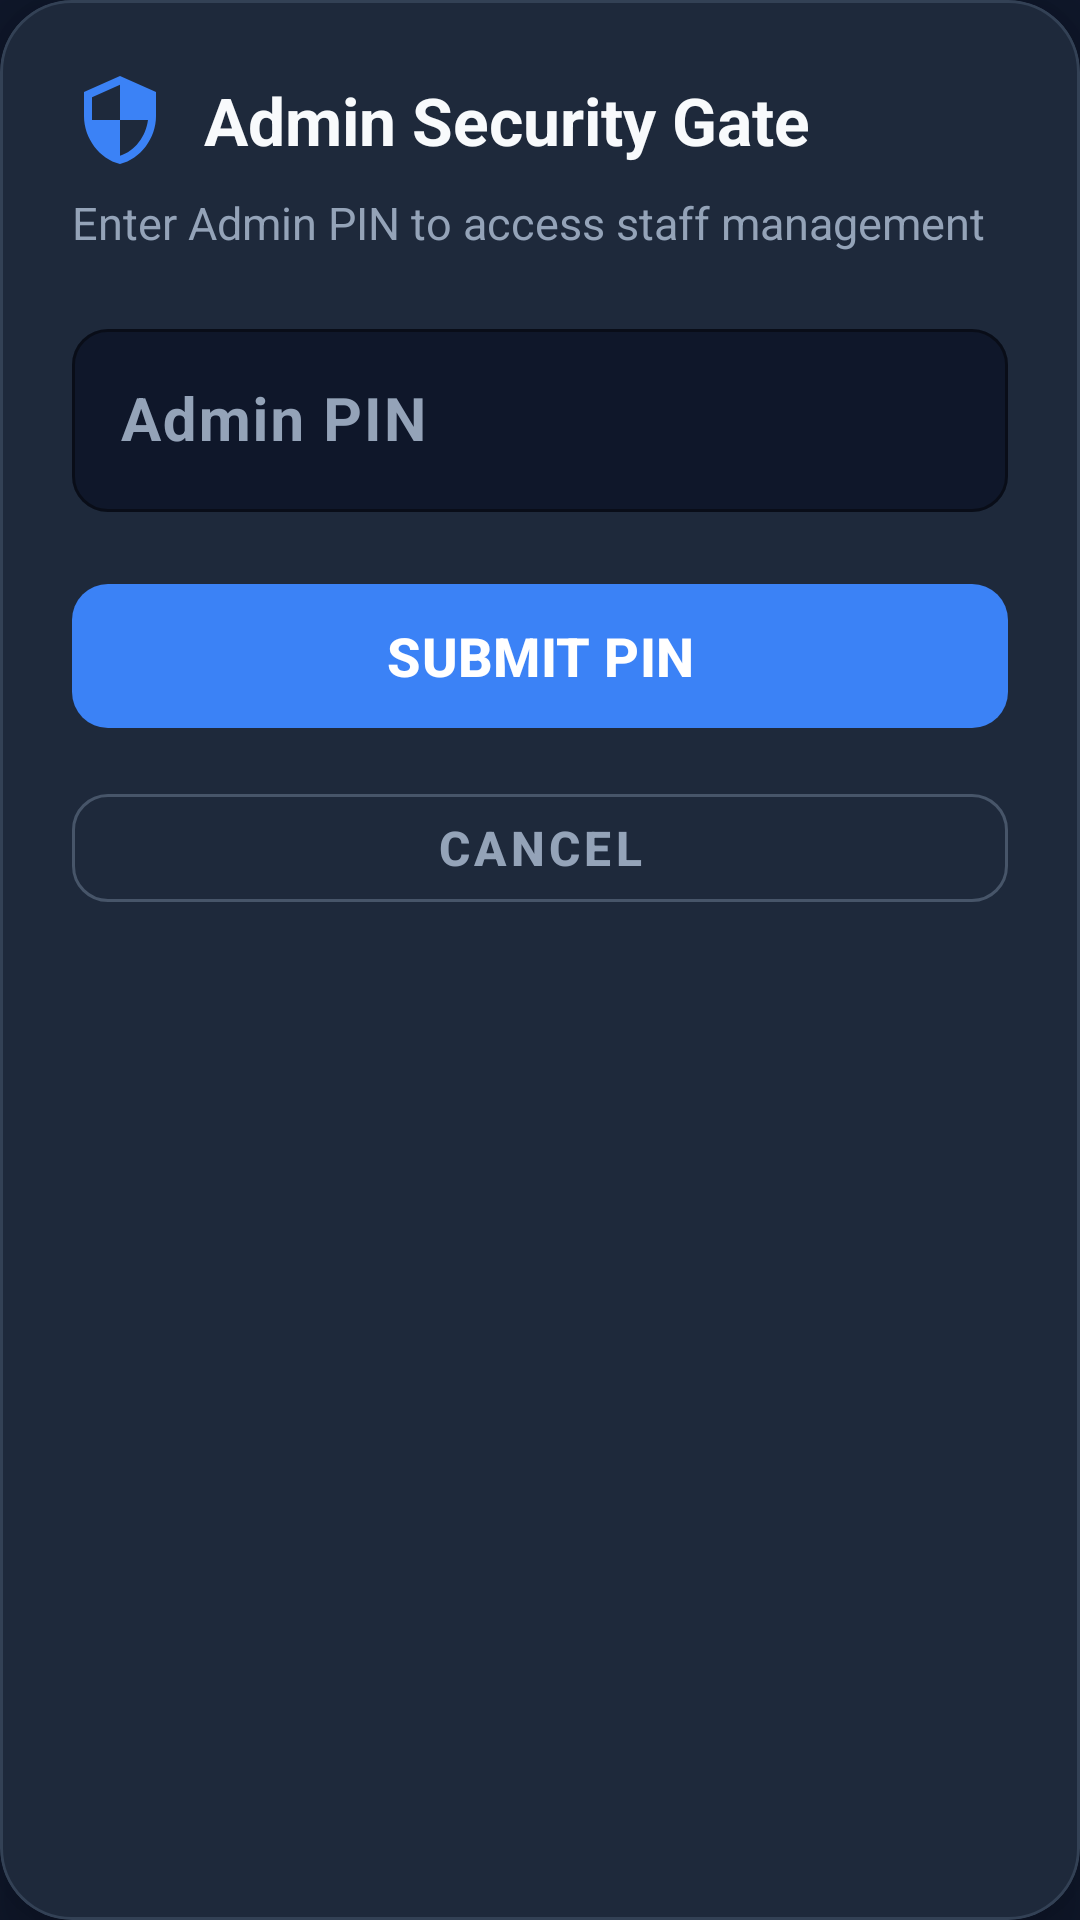

Named icons in this screenshot (1080x1920) and their bounding boxes, (left=x1, top=y1, right=x2, bottom=y2):
admin shield: (left=84, top=76, right=156, bottom=164)
